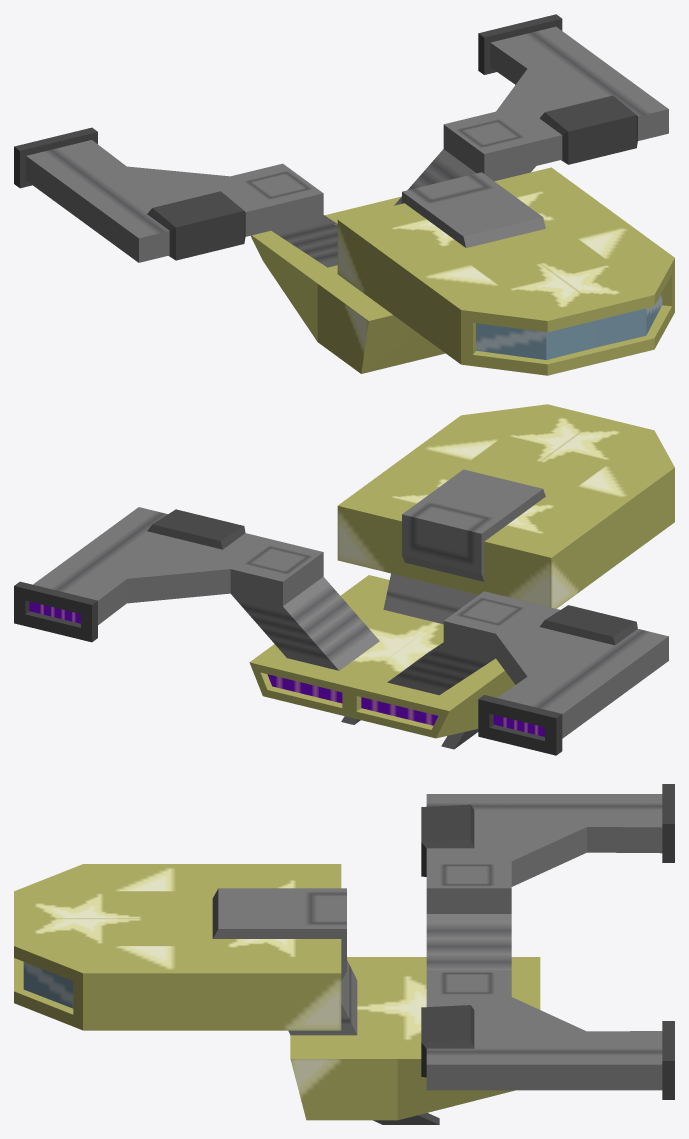
The model's file is Ship08.fbx.
3 renders of one model, top to bottom at view 1: azimuth 30°, elevation 25°; view 2: azimuth 150°, elevation 25°; view 3: azimuth 270°, elevation 25°, orthographic. The views are drawn at different scales.
Parts seen in each view (by area): view 1: Ship08; view 2: Ship08; view 3: Ship08.
Part boxes in pixels (x1,y1,x2,y2): Ship08: (14, 14, 674, 375); Ship08: (14, 404, 674, 755); Ship08: (14, 784, 674, 1124).
Bounding box in the file's own units: 507 × 160 × 512.
1 material, 1 textured.
